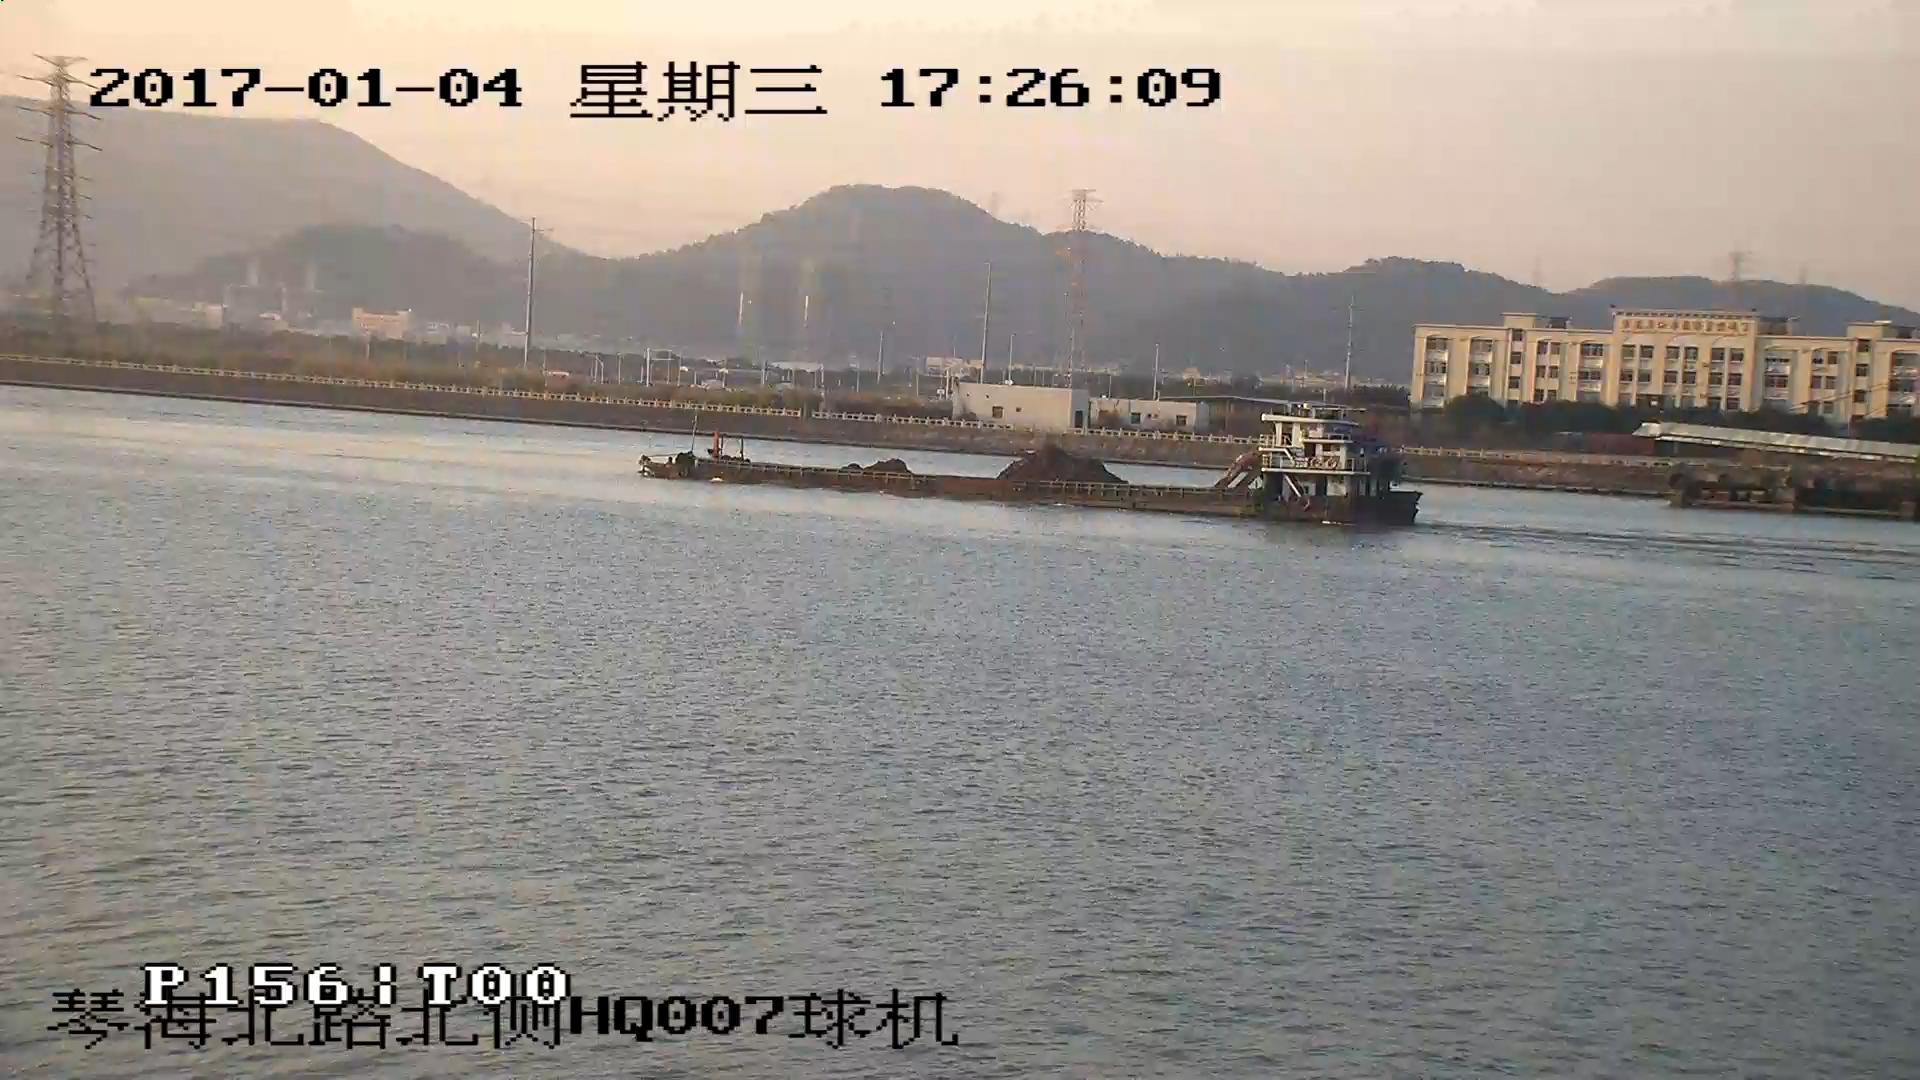ore carrier: (643, 412, 1418, 526)
